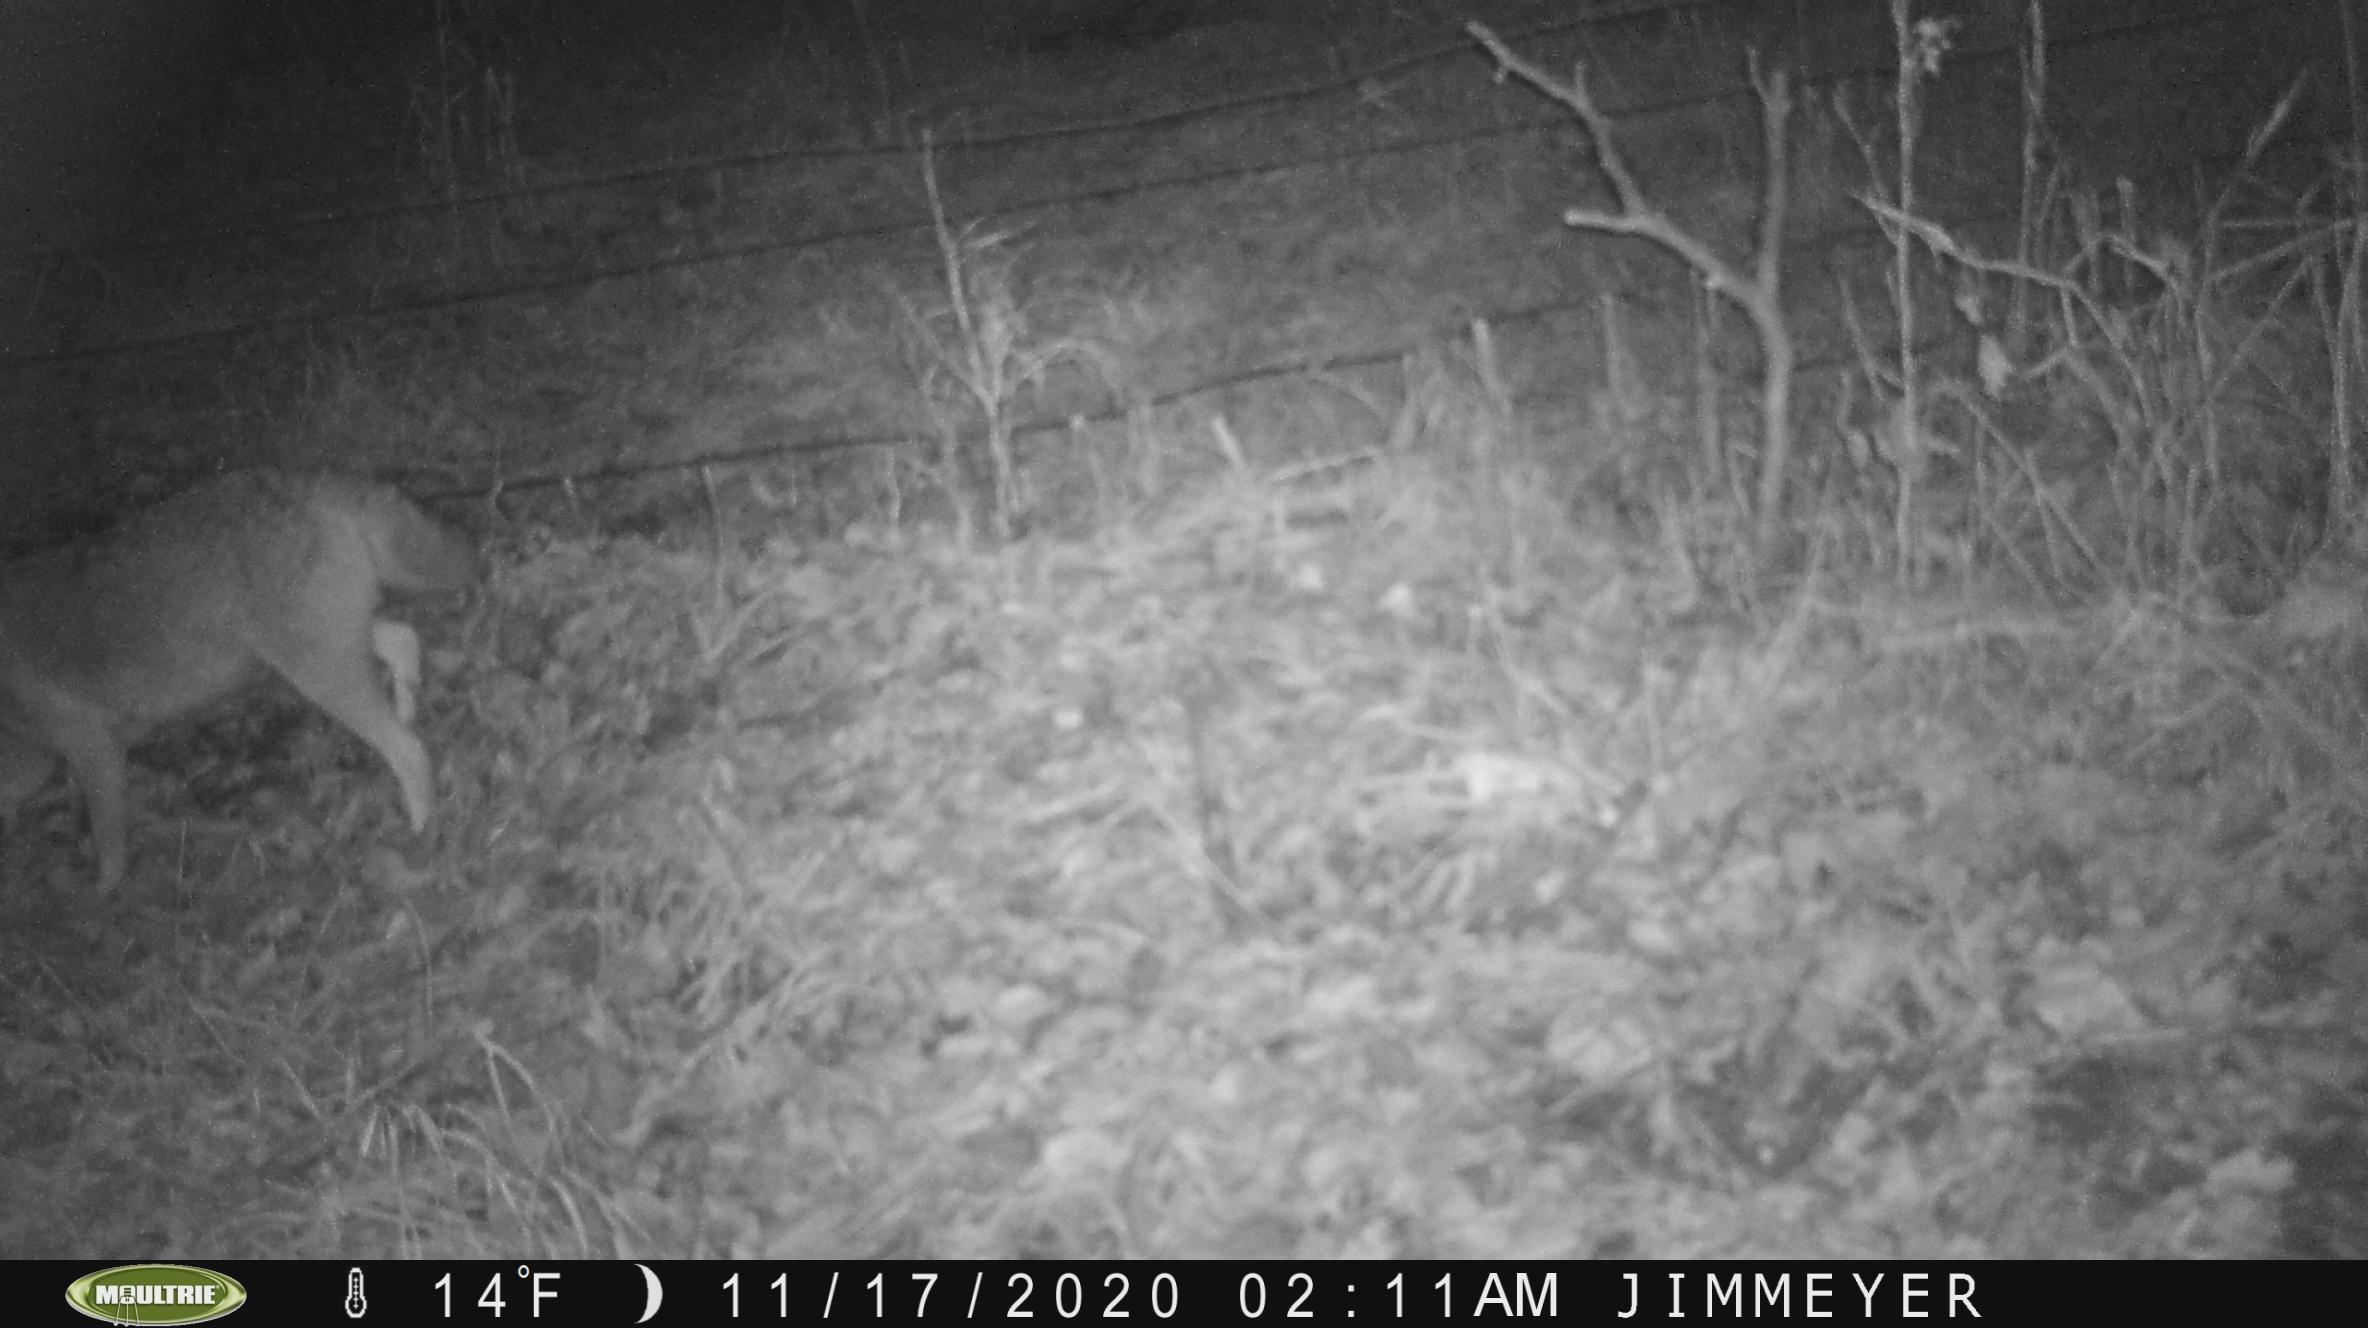Coyote: (2, 455, 473, 883)
